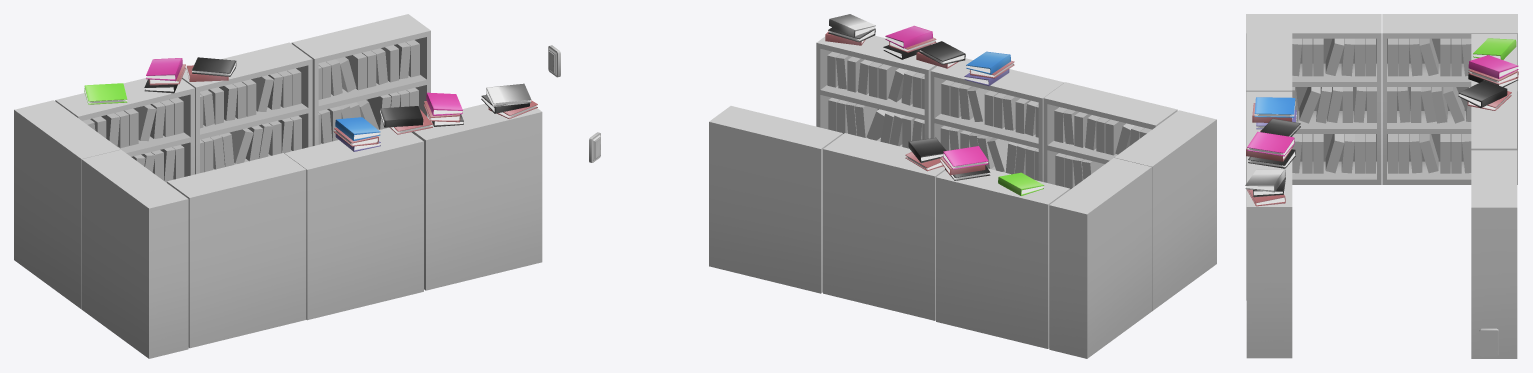
File: Room11Set1.FBX
3 renders of one model, left to right at view 1: azimuth 30°, elevation 25°; view 2: azimuth 150°, elevation 25°; view 3: azimuth 270°, elevation 25°, orthographic. The views are drawn at different scales.
Parts seen in each view (by area): view 1: bookshelf041, bookshelf043, bookshelf048, bookshelf040, bookshelf039, Books021, bookshelf047, Books024, bookshelf044, Books019, bookshelf042, Box571 (+6 smaller); view 2: bookshelf047, bookshelf044, bookshelf042, bookshelf039, bookshelf040, Books025, Books020, bookshelf041, bookshelf043, bookshelf048, Books018, Box579 (+6 smaller); view 3: bookshelf047, Books017, Books016, bookshelf039, bookshelf040, bookshelf048, bookshelf041, bookshelf044, bookshelf043, Box574, Box568, Box581 (+12 smaller).
Part boxes in pixels (bbox=[...]): bookshelf041: bbox=[167, 153, 306, 348]; bookshelf043: bbox=[284, 127, 423, 320]; bookshelf048: bbox=[411, 103, 542, 290]; bookshelf040: bbox=[81, 150, 188, 358]; bookshelf039: bbox=[14, 100, 120, 309]; Books021: bbox=[200, 68, 301, 172]; bookshelf047: bbox=[291, 14, 430, 145]; Books024: bbox=[318, 40, 419, 144]; bookshelf044: bbox=[182, 42, 312, 174]; Books019: bbox=[82, 97, 184, 182]; bookshelf042: bbox=[55, 78, 194, 176]; Box571: bbox=[486, 83, 531, 106]; bookshelf047: bbox=[709, 106, 842, 293]; bookshelf044: bbox=[823, 133, 945, 320]; bookshelf042: bbox=[936, 168, 1069, 348]; bookshelf039: bbox=[1049, 158, 1151, 358]; bookshelf040: bbox=[1114, 110, 1216, 311]; Books025: bbox=[827, 51, 924, 148]; Books020: bbox=[940, 80, 1038, 180]; bookshelf041: bbox=[1043, 82, 1177, 189]; bookshelf043: bbox=[930, 58, 1064, 181]; bookshelf048: bbox=[816, 35, 936, 146]; Books018: bbox=[1054, 107, 1151, 189]; Box579: bbox=[943, 146, 988, 169]; bookshelf047: bbox=[1471, 150, 1517, 358]; Books017: bbox=[1292, 38, 1376, 173]; Books016: bbox=[1387, 38, 1471, 173]; bookshelf039: bbox=[1382, 14, 1517, 184]; bookshelf040: bbox=[1246, 14, 1381, 184]; bookshelf048: bbox=[1246, 156, 1292, 358]; bookshelf041: bbox=[1246, 33, 1292, 91]; bookshelf044: bbox=[1471, 91, 1516, 150]; bookshelf043: bbox=[1246, 91, 1292, 300]; Box574: bbox=[1247, 131, 1294, 156]; Box568: bbox=[1254, 97, 1295, 117]; Box581: bbox=[1458, 80, 1507, 107].
Bounding box in the file's own units: 76.23 × 24.18 × 33.97.
